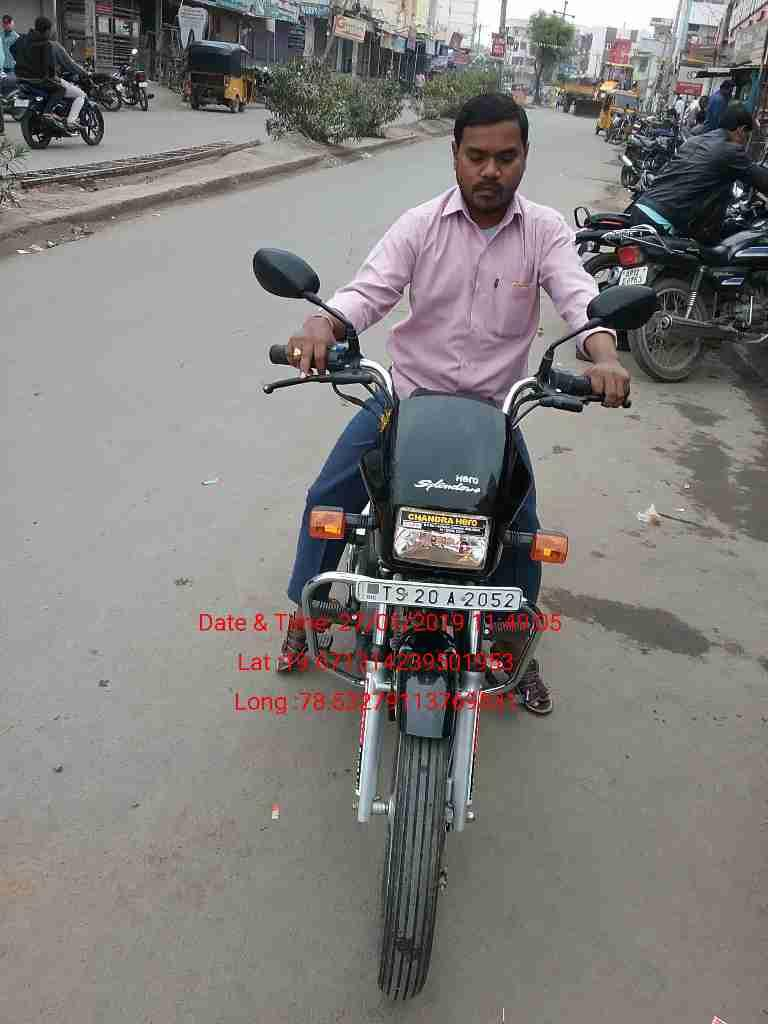plate: (357, 575, 529, 617)
